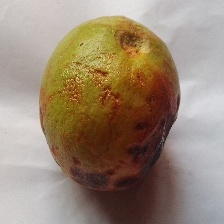guava: (23, 35, 179, 203)
